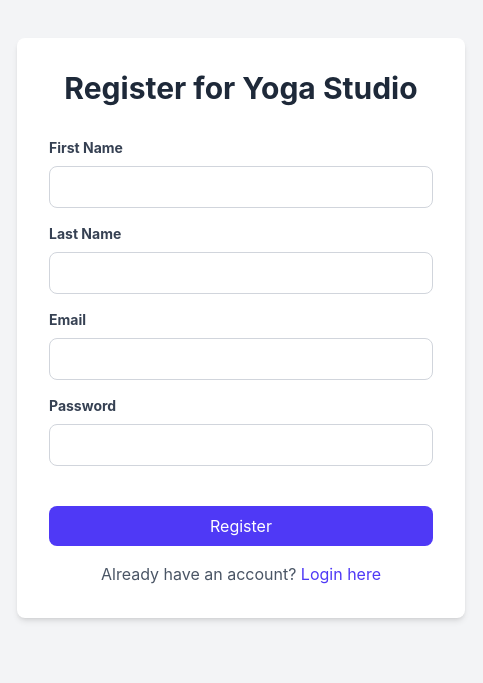
Test: Register (integration) › displays the "Registration failed" fallback when the error is not axios
In the field named "firstName" below "First Name": coordinates (241, 187) [49,166,433,208], type "Victor"
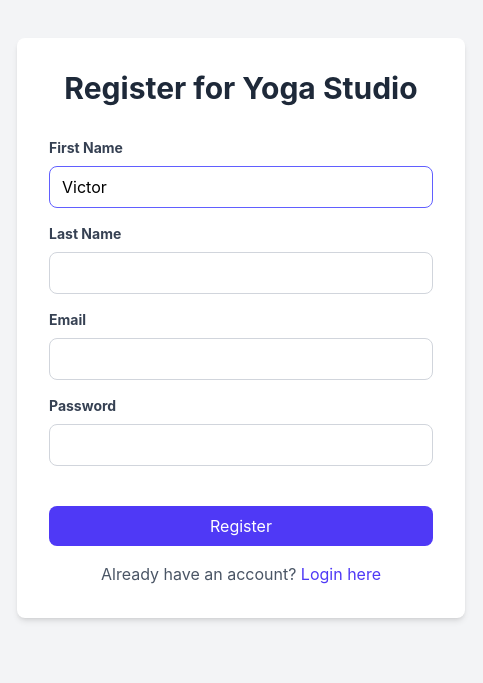
In the field named "lastName" below "Last Name": coordinates (241, 273) [49,252,433,294], type "Pille"
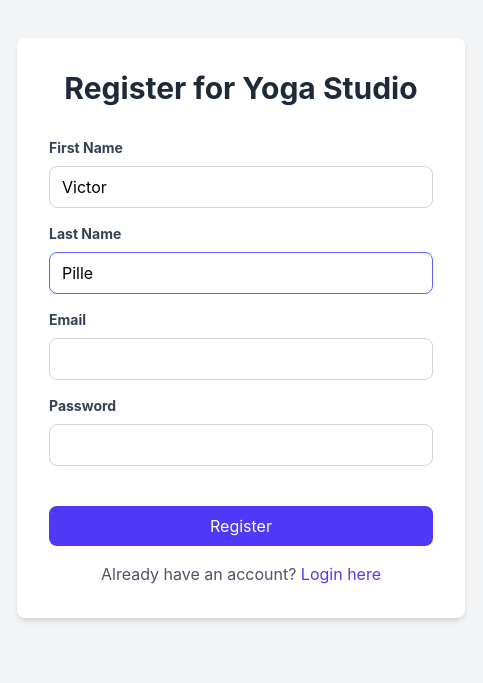
In the field named "email" below "Email": coordinates (241, 359) [49,338,433,380], type "victor@yoga.com"
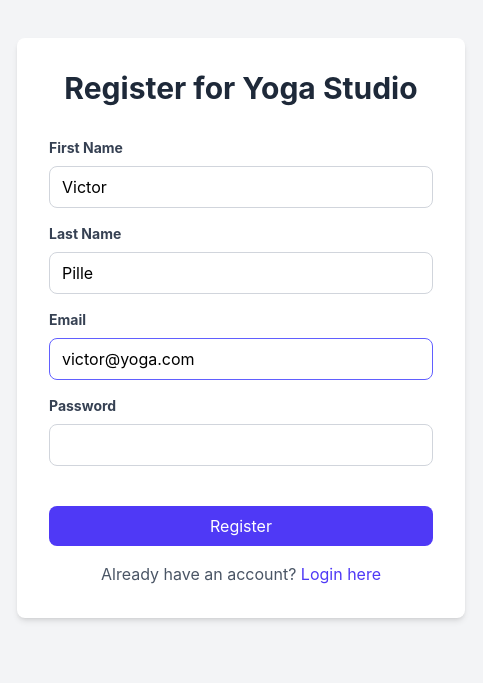
In the password field named "password": coordinates (241, 445) [49,424,433,466], type "Azerty#0"
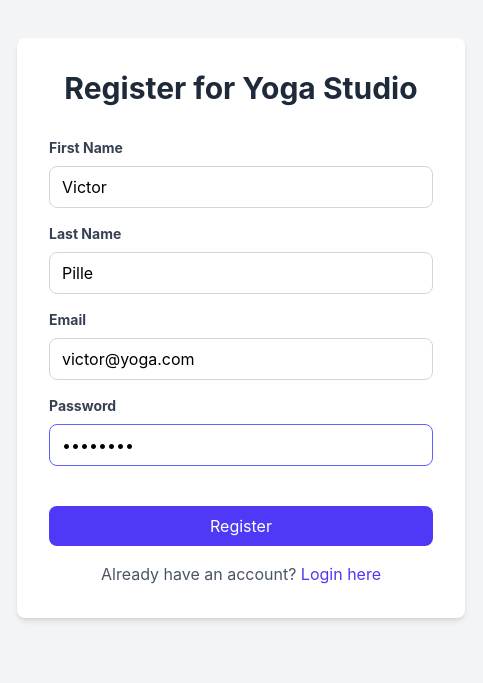
Click the button "Register": coordinates (241, 526) [49,506,433,546]
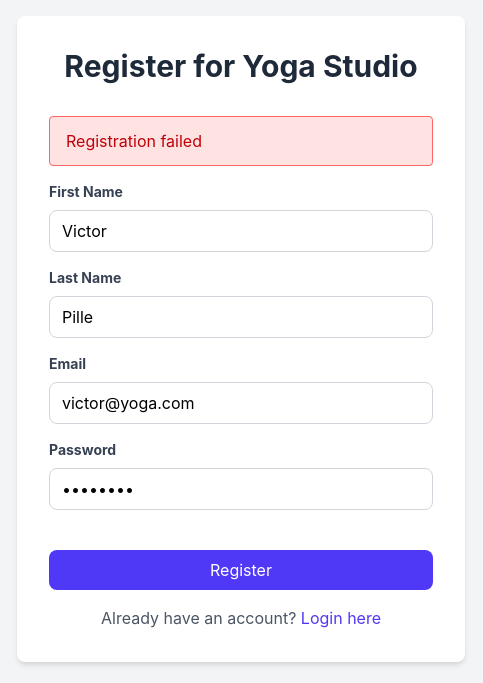
Now the text "Registration failed" is shown, box [49,116,433,166]
